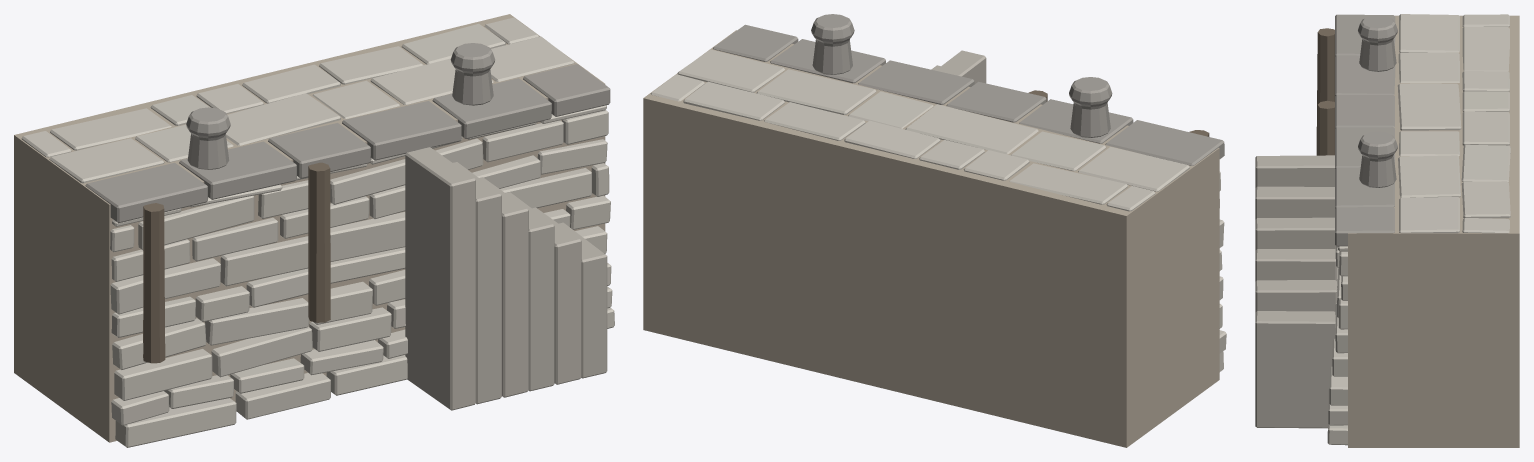
File: D01_石砌岸壁.fbx
3 views of the same model, side by side, from view 1: azimuth 30°, elevation 25°; view 2: azimuth 150°, elevation 25°; view 3: azimuth 270°, elevation 25° (orthographic). The views are drawn at different scales.
Parts seen in each view (by area): view 1: D01_岸壁条石, D01_下水踏步, D01_岸芯, D01_石板, D01_压阑石, D01_护舷木, D01_系缆石; view 2: D01_岸芯, D01_石板, D01_压阑石, D01_系缆石, D01_下水踏步, D01_岸壁条石; view 3: D01_岸芯, D01_石板, D01_下水踏步, D01_压阑石, D01_系缆石, D01_岸壁条石, D01_护舷木.
Boxes of the visible parts, x1,y1,x2,y2 form: D01_岸壁条石: (110,105,614,447); D01_下水踏步: (405,147,607,410); D01_岸芯: (14,14,605,442); D01_石板: (21,17,574,183); D01_压阑石: (85,64,610,223); D01_护舷木: (143,162,330,363); D01_系缆石: (186,43,495,169); D01_岸芯: (643,30,1219,447); D01_石板: (650,49,1189,211); D01_压阑石: (713,24,1224,165); D01_系缆石: (811,14,1112,137); D01_下水踏步: (931,50,986,83); D01_岸壁条石: (1219,171,1226,371); D01_岸芯: (1348,15,1519,447); D01_石板: (1397,14,1510,233); D01_下水踏步: (1255,155,1337,428); D01_压阑石: (1335,14,1395,246); D01_系缆石: (1358,15,1397,187); D01_岸壁条石: (1327,246,1347,445); D01_护舷木: (1316,28,1334,155).
Size of the model in its own units: 600 by 335 by 308.
